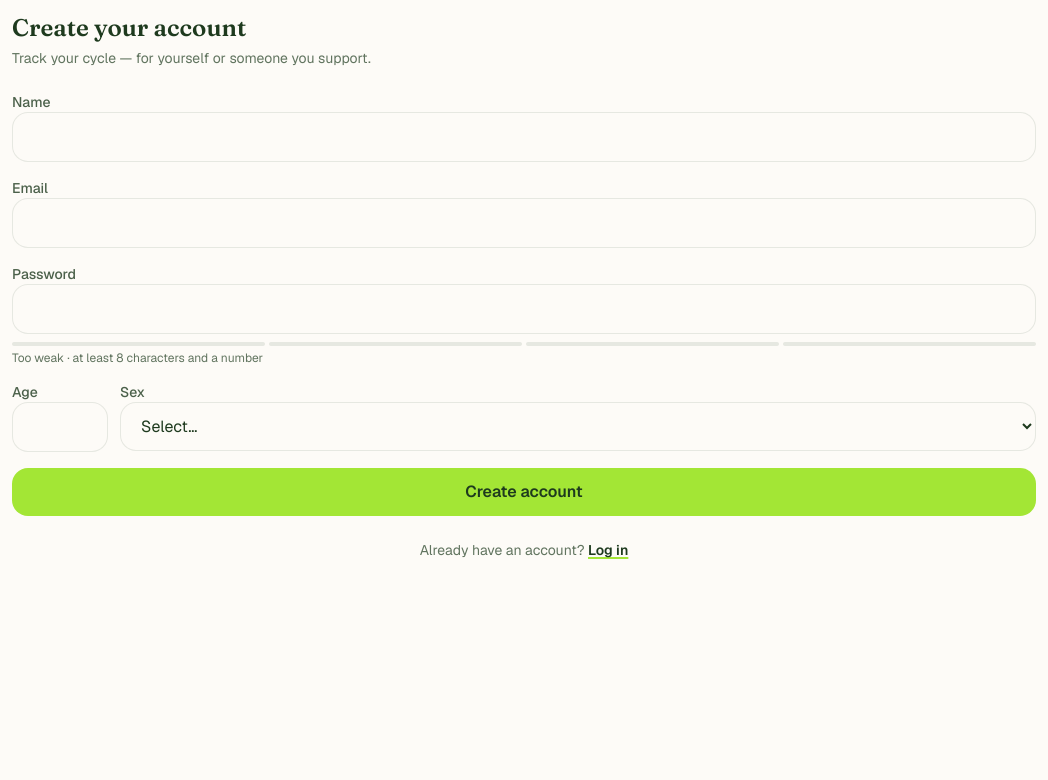
Test: RegisterPage › blocks submission and shows an error when required fields are empty
The width and height of the screenshot is (1048, 780).
What coordinates should you click on to do the following:
click the button "Create account"
I would click on:
 (524, 492)
Its box is [12, 468, 1036, 516].
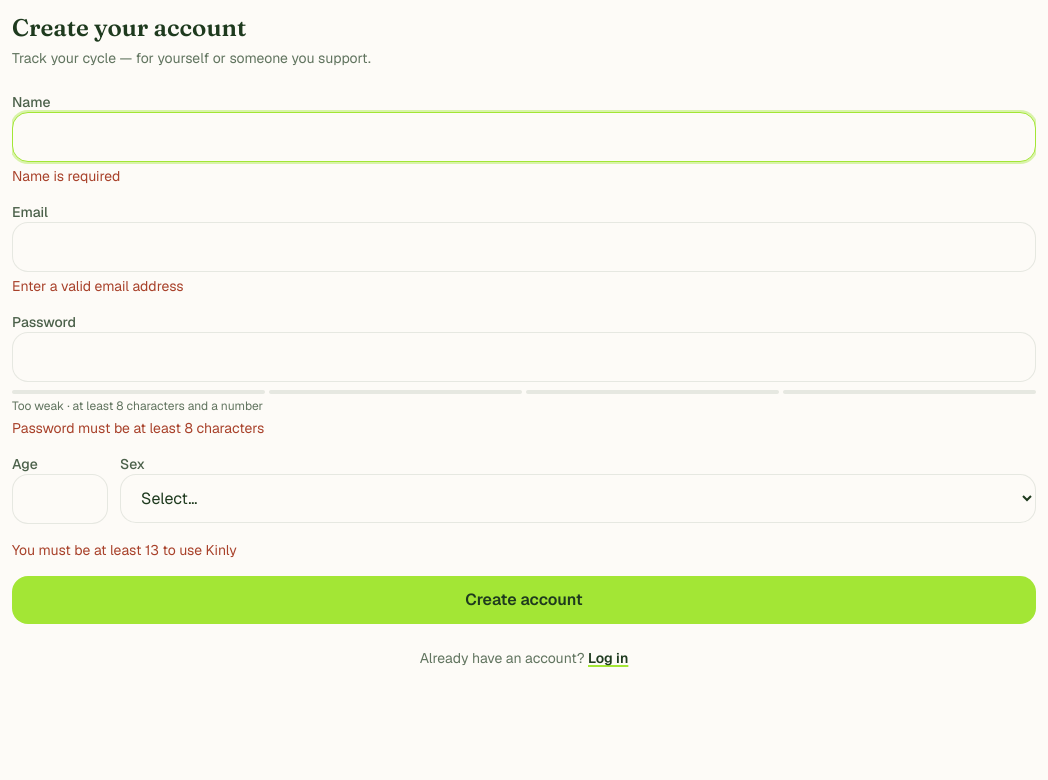
Now the text "Name is required" is shown, box [12, 167, 120, 185]
